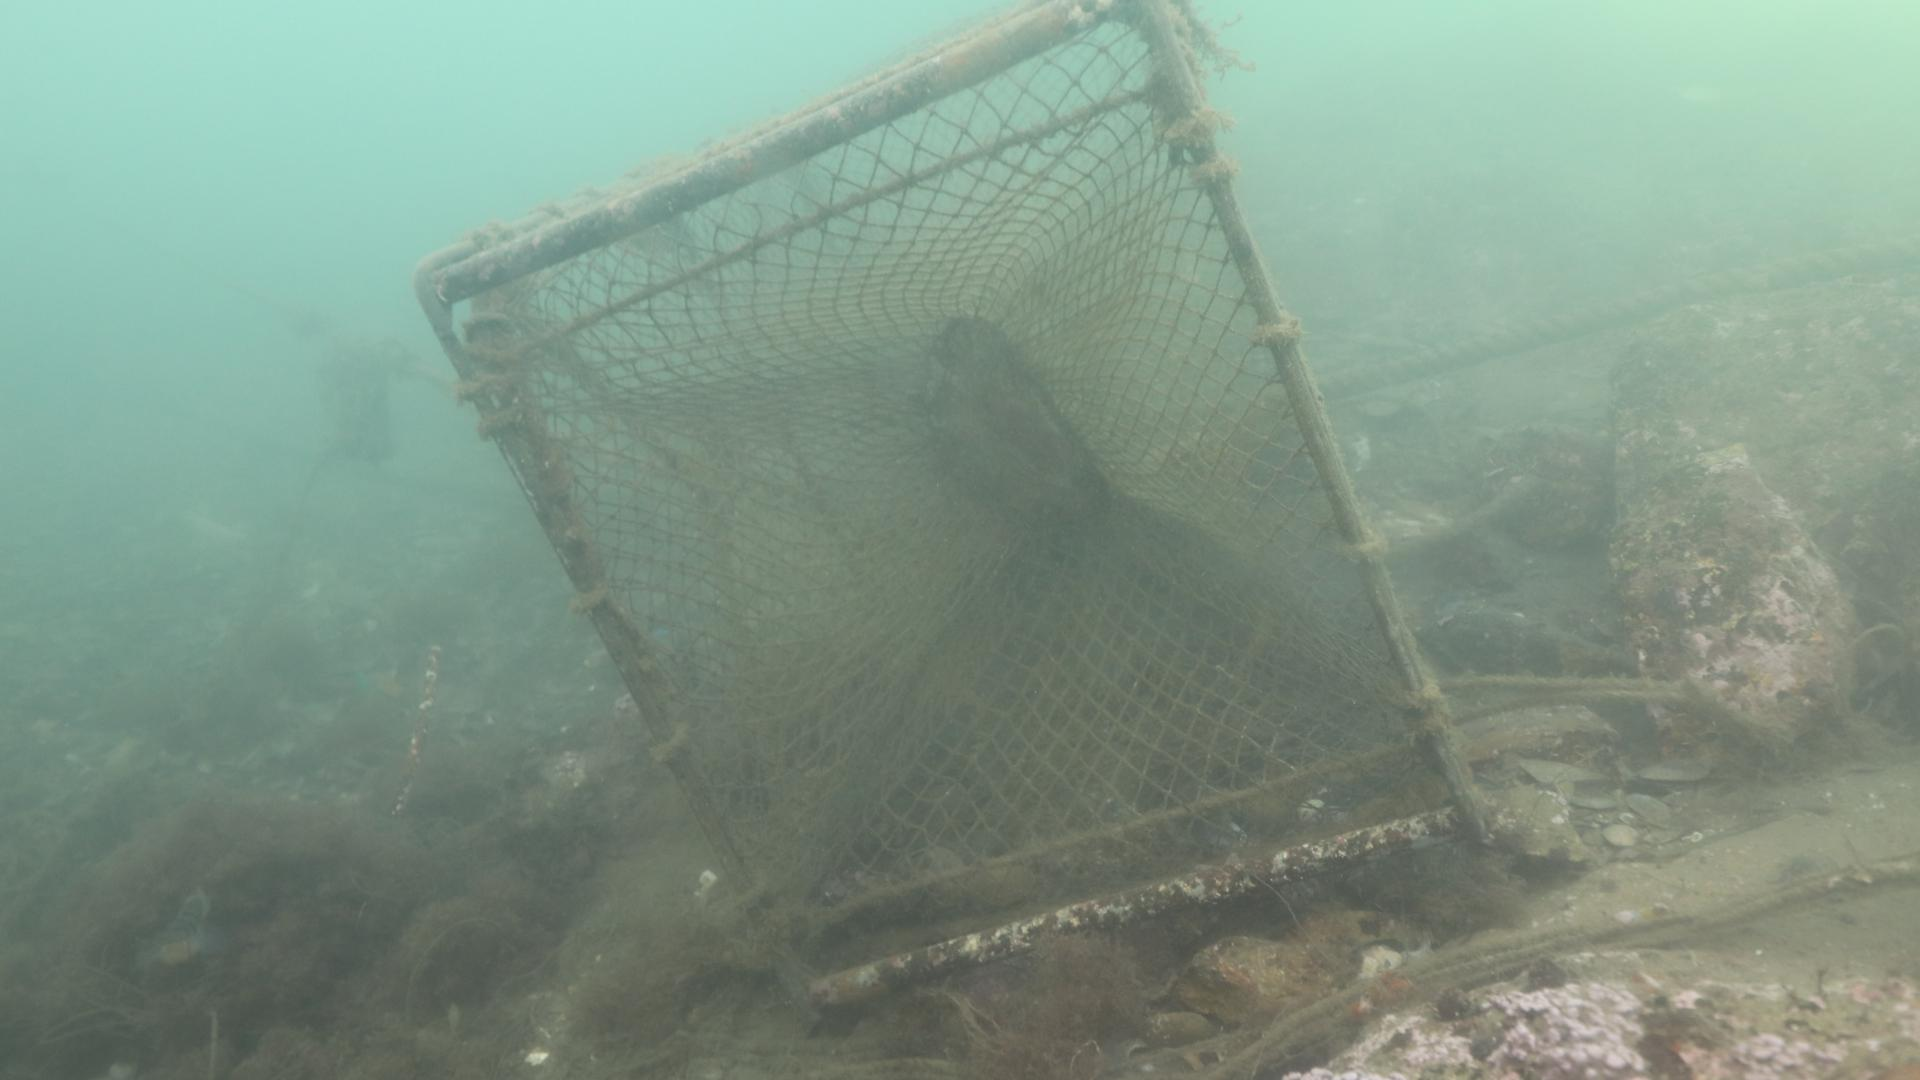bundle of ropes: (1203, 855, 1920, 1080), (1443, 673, 1683, 723)
rectangular fish trap: (411, 0, 1493, 1015)
rope: (1317, 244, 1920, 397)
